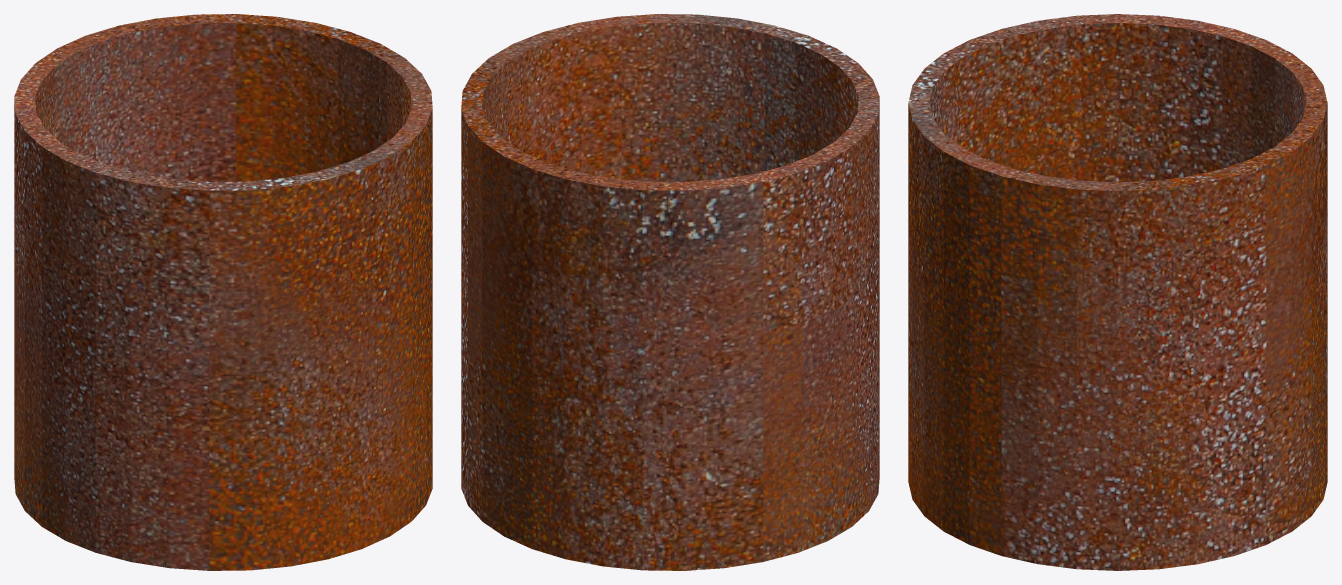
File: ClosedPipe.obj
3 renders of one model, left to right at view 1: azimuth 30°, elevation 25°; view 2: azimuth 150°, elevation 25°; view 3: azimuth 270°, elevation 25°, orthographic.
Visible parts, largest first — view 1: Cylinder; view 2: Cylinder; view 3: Cylinder.
Part boxes in pixels (<box>): Cylinder: <box>14,14,432,570</box>; Cylinder: <box>461,14,879,570</box>; Cylinder: <box>908,14,1327,570</box>.
Size of the model in its own units: 2 by 2 by 2.
Materials: 1 (1 with a texture image).
